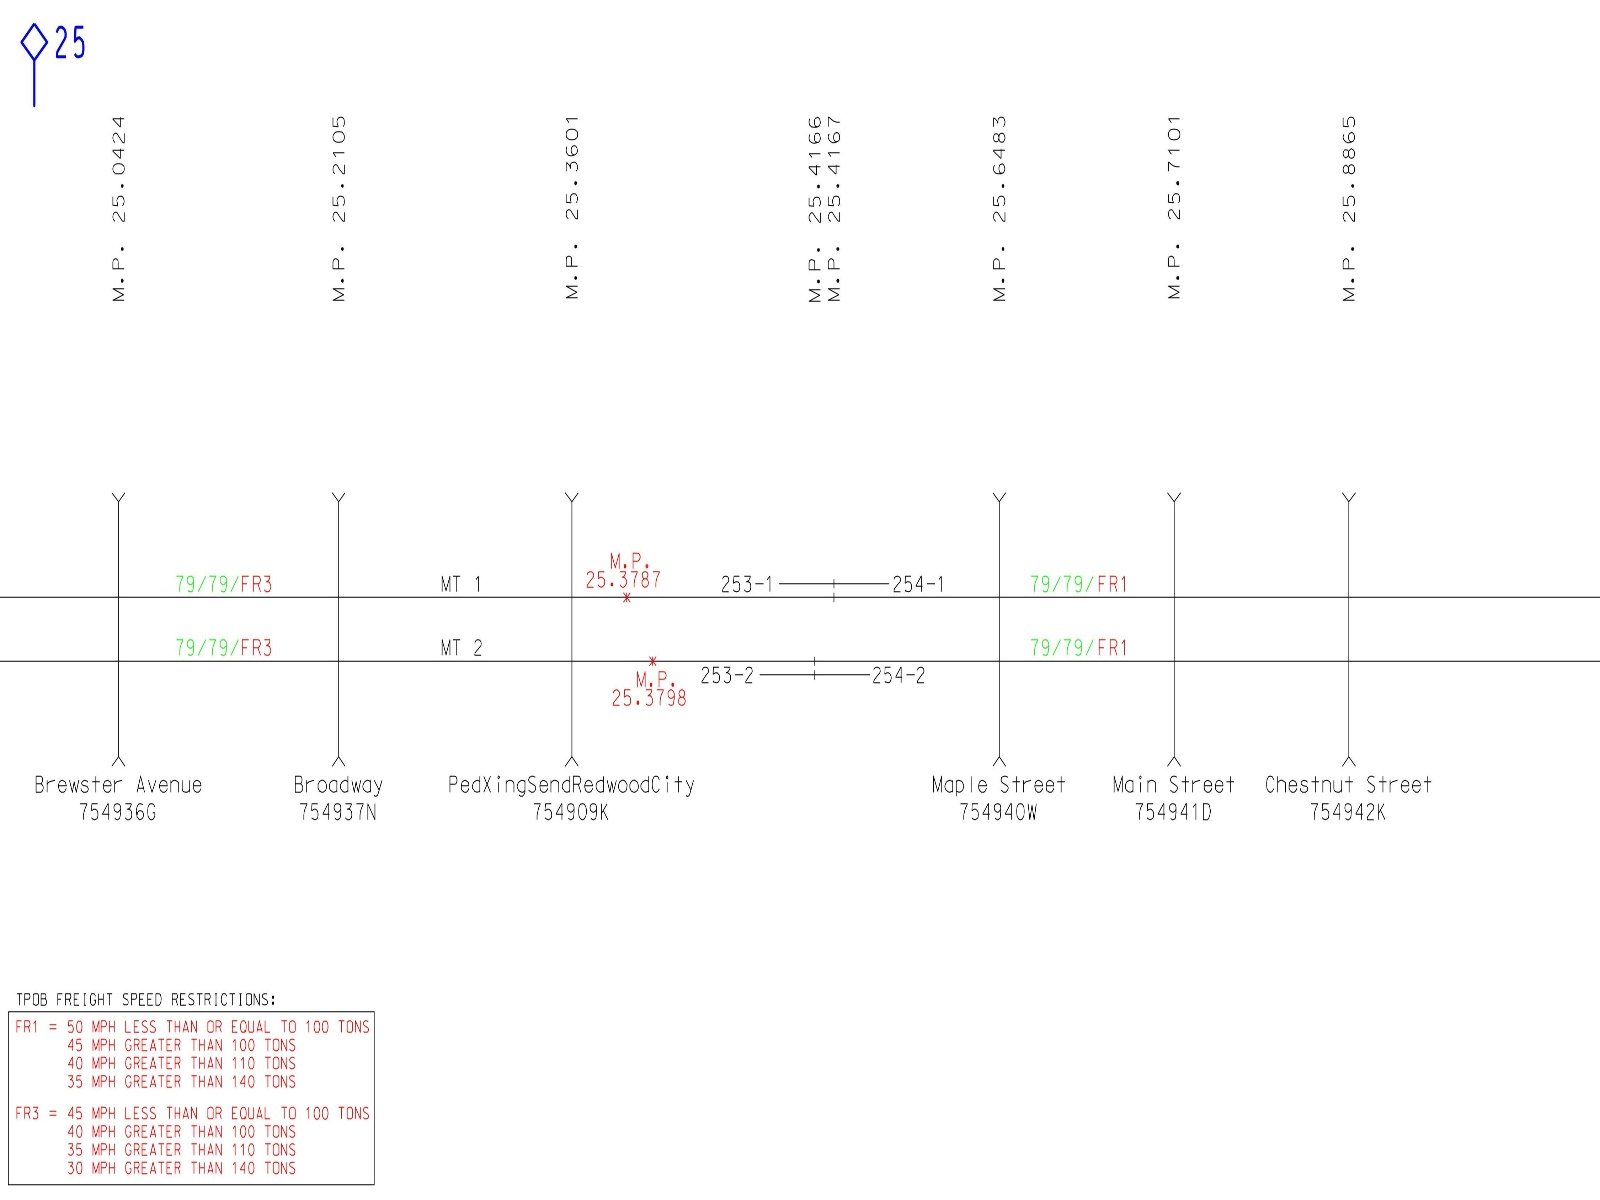crossover: (76, 484, 163, 771), (1133, 484, 1220, 771), (297, 482, 383, 769), (529, 484, 615, 771), (956, 485, 1042, 773), (1305, 485, 1391, 773)
crossoverLabel: (443, 770, 704, 837), (28, 771, 205, 839), (247, 769, 425, 837), (911, 769, 1089, 837), (1260, 766, 1437, 834), (1090, 769, 1254, 838)
milepost: (76, 105, 163, 335), (957, 100, 1044, 330), (780, 100, 866, 330), (295, 102, 380, 332), (528, 102, 614, 332), (1136, 100, 1222, 329), (1306, 97, 1392, 326)
